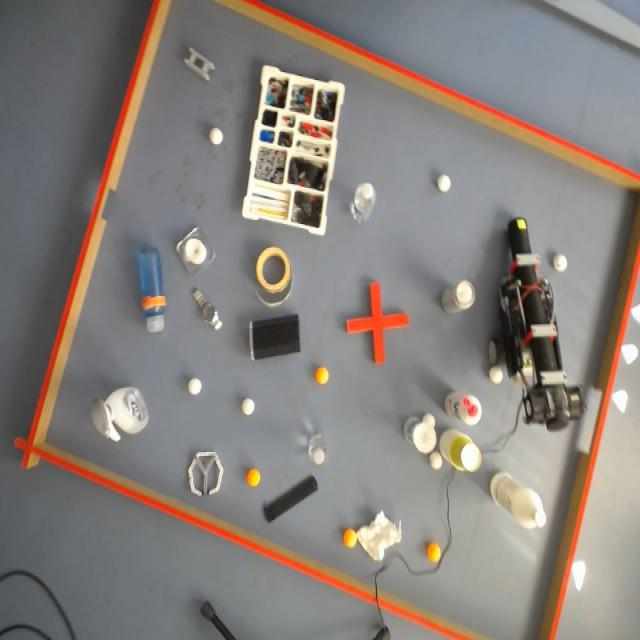orange: (312, 366, 330, 386), (426, 541, 441, 563), (245, 466, 261, 486), (343, 527, 356, 549)
robot: (490, 217, 586, 430)
robot-front: (515, 219, 528, 231)
white: (434, 172, 454, 196), (553, 253, 569, 273), (429, 449, 442, 471), (241, 397, 256, 416), (490, 364, 504, 384), (209, 127, 223, 145), (188, 380, 202, 395), (423, 415, 436, 429)
